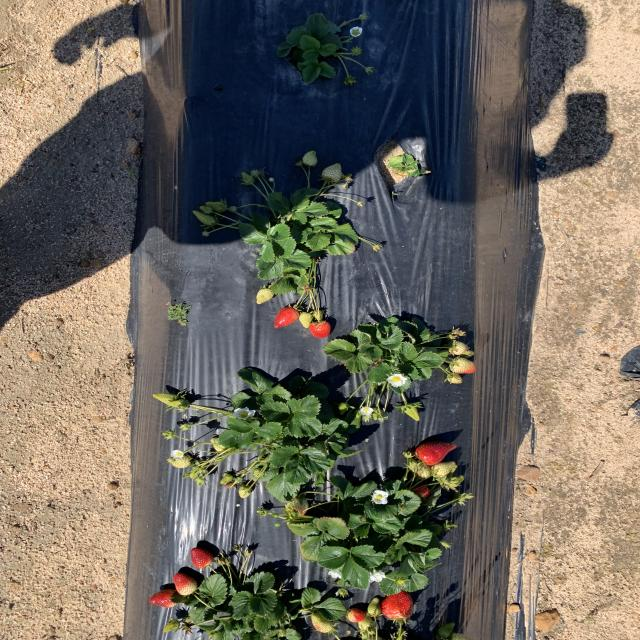unripe: (416, 440, 456, 464), (380, 589, 413, 618), (272, 306, 300, 329), (147, 588, 179, 608), (172, 574, 197, 596), (191, 547, 213, 569), (307, 320, 333, 338), (411, 486, 434, 500), (346, 608, 366, 620)
